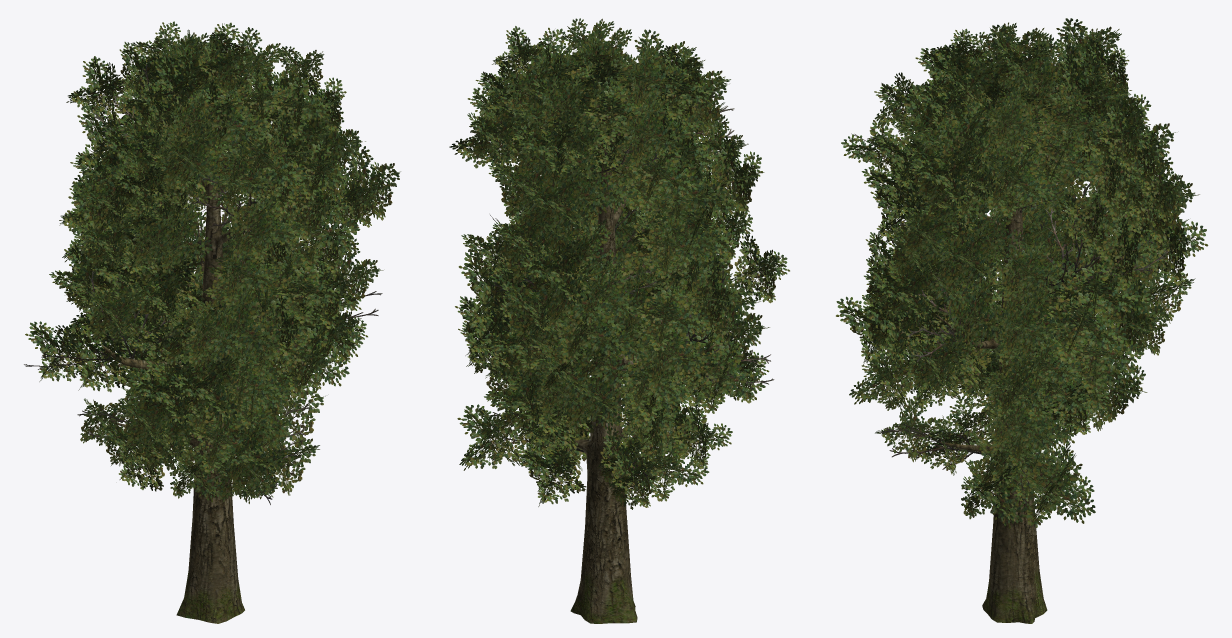
Rendered from models__pg_props__pg_forest__pg_tree01_mdl_skin0.gltf.
The picture shows the model from 3 angles, left to right: view 1: azimuth 30°, elevation 25°; view 2: azimuth 150°, elevation 25°; view 3: azimuth 270°, elevation 25°; orthographic projection. The views are drawn at different scales.
Parts seen in each view (by area): view 1: models__pg_props__pg_forest__pg_tree01_mdl; view 2: models__pg_props__pg_forest__pg_tree01_mdl; view 3: models__pg_props__pg_forest__pg_tree01_mdl.
Part boxes in pixels (x1,y1,x2,y2): models__pg_props__pg_forest__pg_tree01_mdl: (24, 21, 400, 623); models__pg_props__pg_forest__pg_tree01_mdl: (449, 18, 789, 623); models__pg_props__pg_forest__pg_tree01_mdl: (836, 18, 1208, 623).
Size of the model in its own units: 6.37 by 9.78 by 6.06.
Materials: 3 (3 with a texture image).
